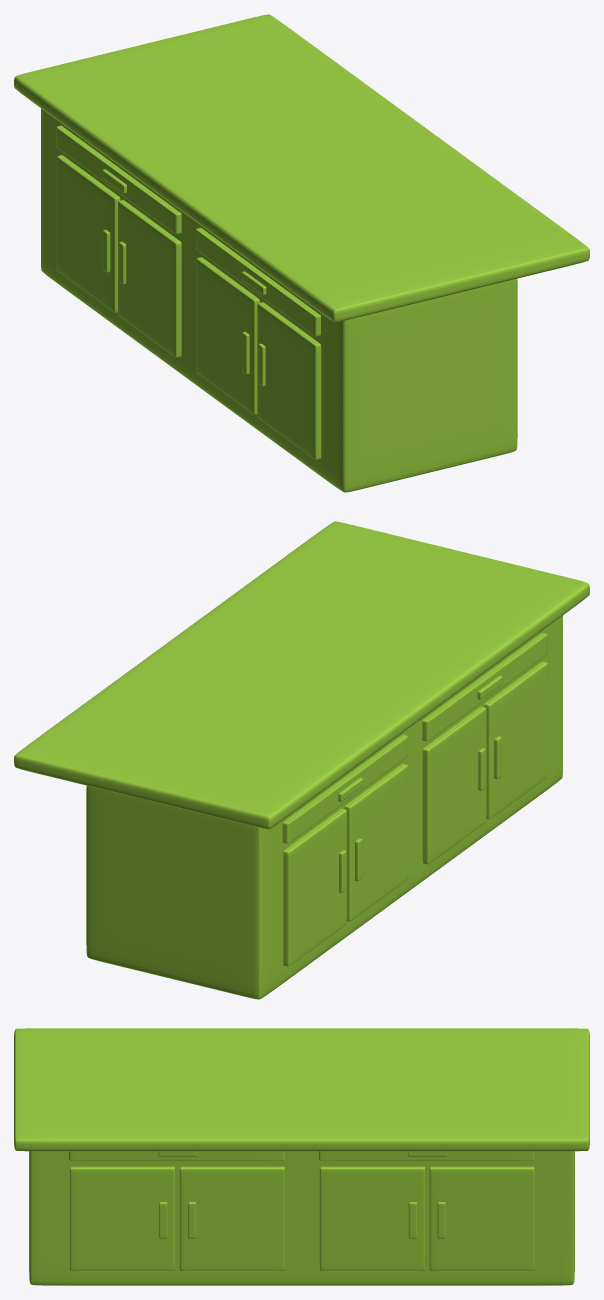
Rendered from Counter.glb.
3 renders of one model, top to bottom at view 1: azimuth 30°, elevation 25°; view 2: azimuth 150°, elevation 25°; view 3: azimuth 270°, elevation 25°, orthographic. The views are drawn at different scales.
Parts seen in each view (by area): view 1: pCube2, pCube1, pCube6, pCube4, pCube8, pCube3, pCube5, pCube7; view 2: pCube2, pCube1, pCube8, pCube3, pCube4, pCube6, pCube7, pCube5; view 3: pCube2, pCube1, pCube25, pCube17, pCube19, pCube18, pCube21, pCube20.
Boxes of the visible parts, <box> form: pCube2: <box>14,14,589,322</box>; pCube1: <box>41,108,517,492</box>; pCube6: <box>257,302,321,459</box>; pCube4: <box>118,200,181,357</box>; pCube8: <box>196,257,259,414</box>; pCube3: <box>56,155,120,312</box>; pCube5: <box>56,125,181,234</box>; pCube7: <box>196,227,320,336</box>; pCube2: <box>14,521,589,829</box>; pCube1: <box>86,615,562,999</box>; pCube8: <box>422,706,486,864</box>; pCube3: <box>283,808,346,966</box>; pCube4: <box>344,764,408,921</box>; pCube6: <box>484,661,547,819</box>; pCube7: <box>422,632,547,741</box>; pCube5: <box>282,734,407,843</box>; pCube2: <box>14,1028,589,1151</box>; pCube1: <box>29,1151,574,1285</box>; pCube25: <box>319,1166,425,1271</box>; pCube17: <box>429,1166,534,1271</box>; pCube19: <box>70,1166,175,1271</box>; pCube18: <box>179,1166,284,1271</box>; pCube21: <box>318,1151,534,1160</box>; pCube20: <box>69,1151,284,1160</box>.
Bounding box in the file's own units: 3.77 × 2.74 × 8.14.
